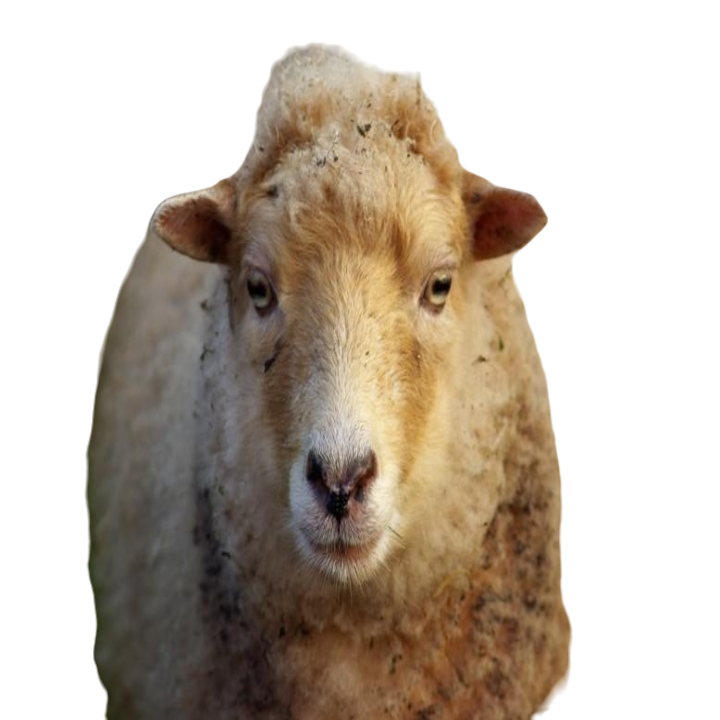Sheep: (78, 40, 578, 719)
